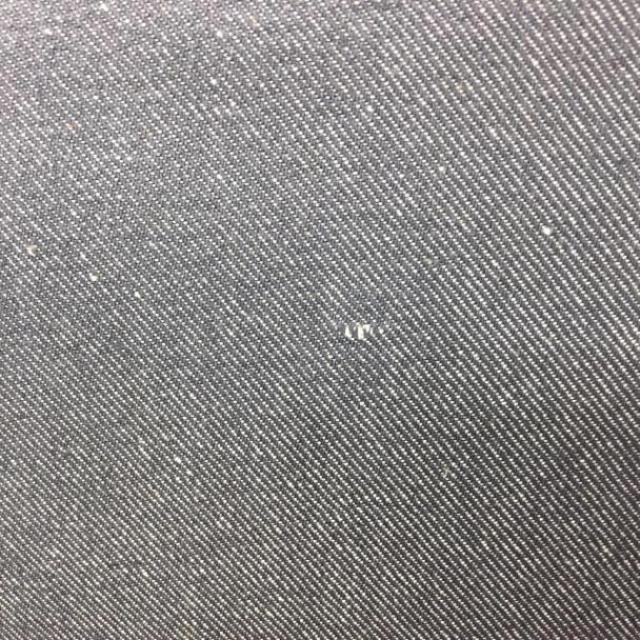Knot: (344, 323, 385, 341)
